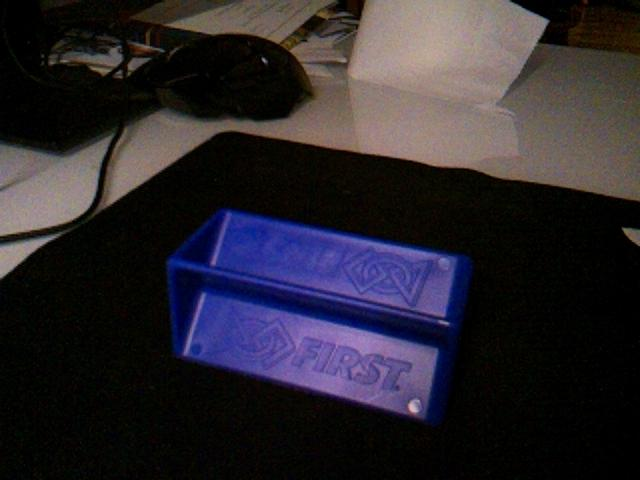blue: (164, 206, 475, 427)
